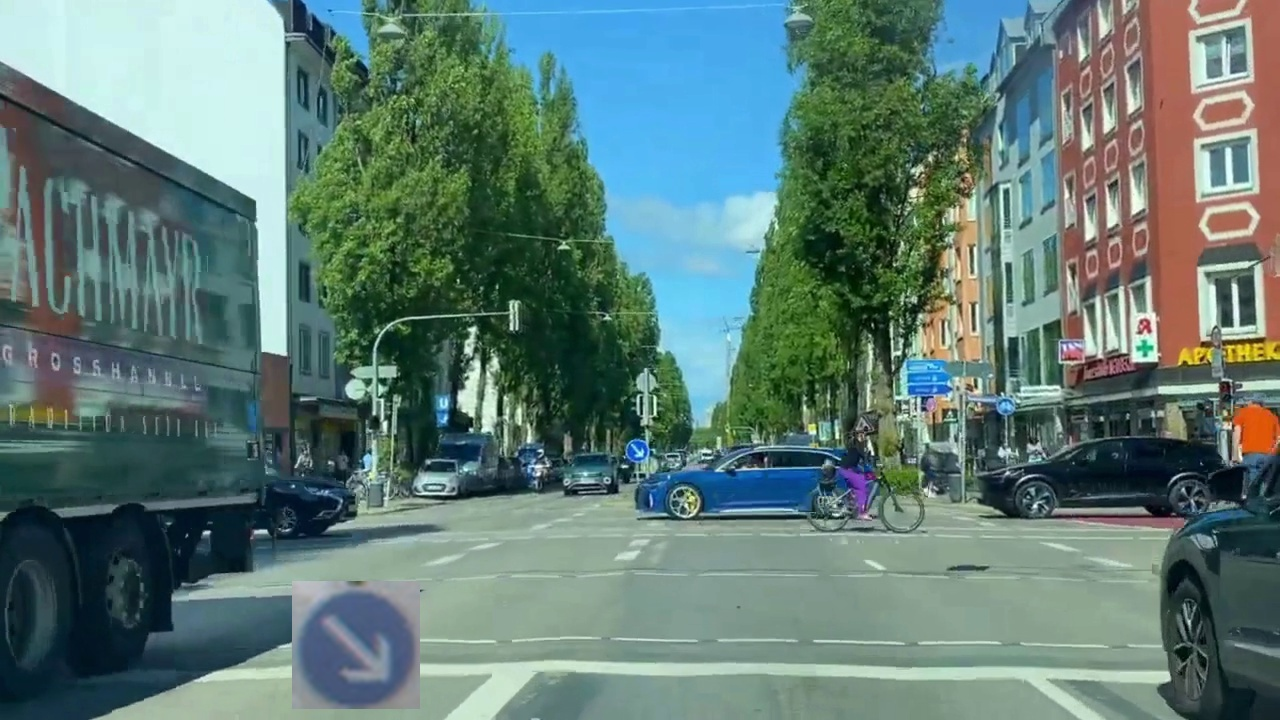Keep right: (292, 581, 420, 709)
